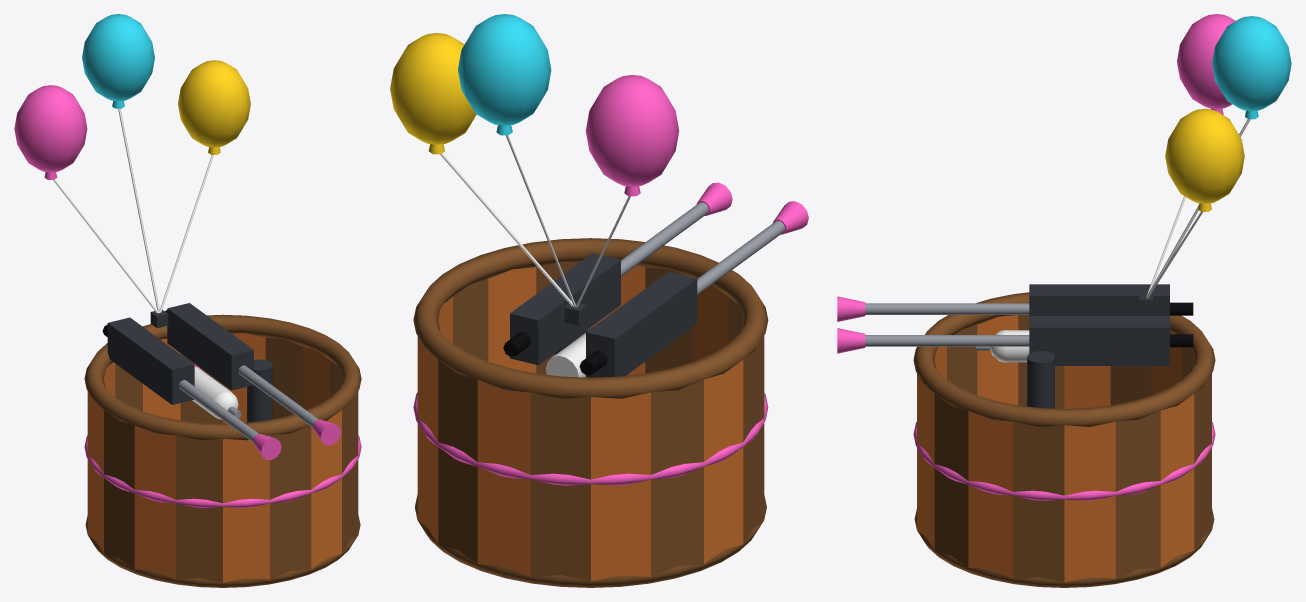
File: up_up_away.obj
The picture shows the model from 3 angles, left to right: view 1: azimuth 30°, elevation 25°; view 2: azimuth 150°, elevation 25°; view 3: azimuth 270°, elevation 25°; orthographic projection. The views are drawn at different scales.
Parts seen in each view (by area): view 1: stand, turret; view 2: stand, turret; view 3: stand, turret.
Boxes of the visible parts, box(x1,y1,x2,y2) form: stand: box(84, 314, 361, 587); turret: box(14, 14, 341, 459); stand: box(413, 238, 768, 587); turret: box(390, 14, 808, 377); stand: box(913, 292, 1215, 587); turret: box(837, 14, 1291, 365).
Bounding box in the file's own units: 1.37 × 2.34 × 1.94.
